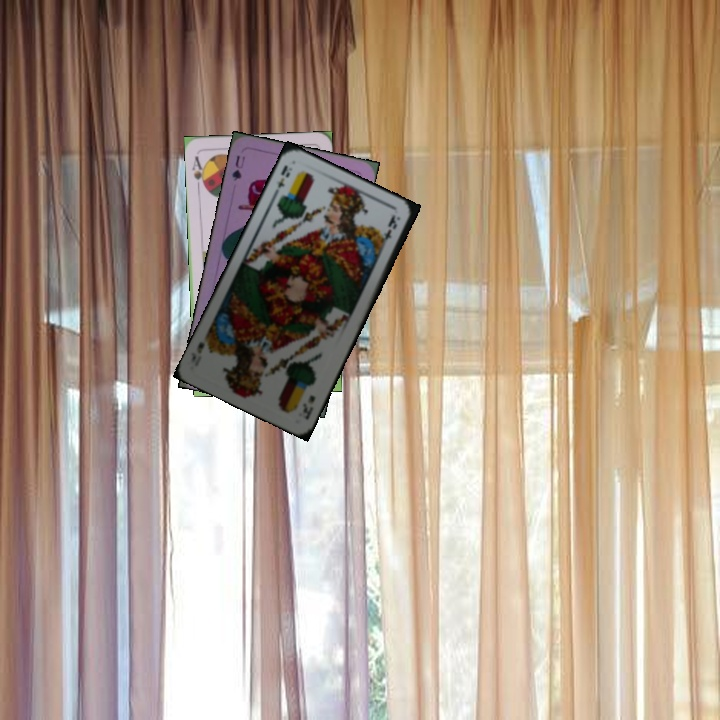EK: (270, 160, 295, 198), (299, 391, 318, 422)
GU: (228, 151, 248, 183)
SA: (188, 152, 208, 191)
